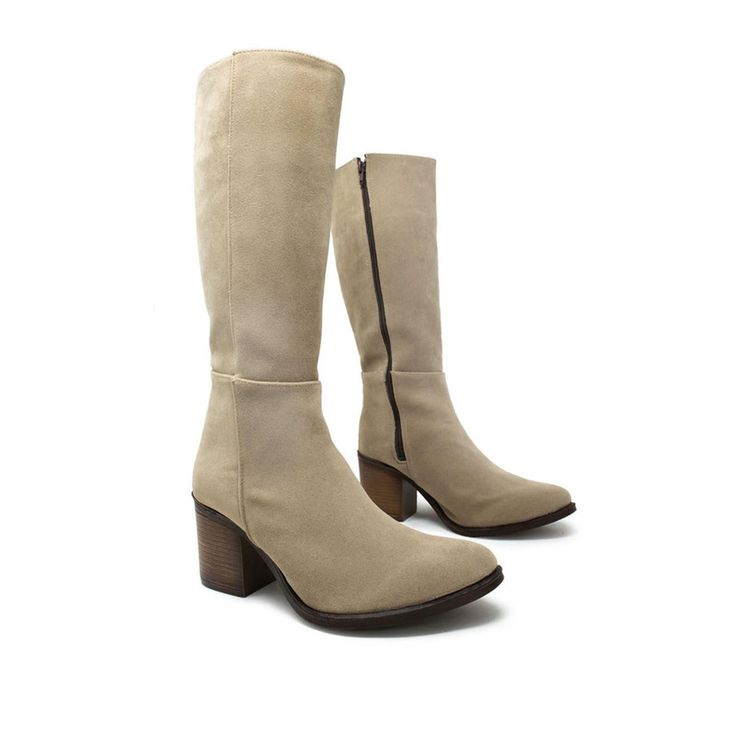gamuza: (191, 49, 571, 614)
